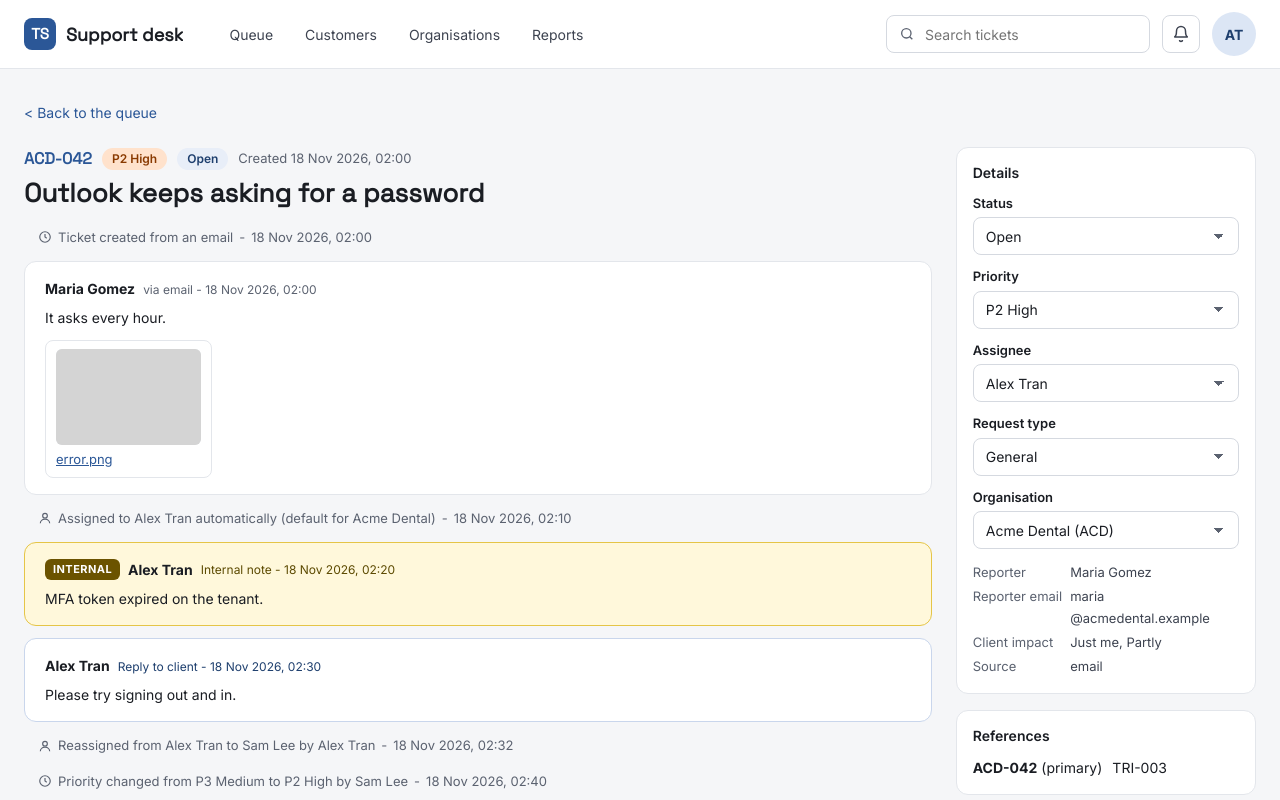
Scenario: Ticket actions › a refused status change pops up the permission message
Check: the heading "Outlook keeps asking for a password" is shown, box left=24, top=176, right=484, bottom=210
Select "Resolved" in the dropdown labelled "Status" at (1106, 236), box left=973, top=217, right=1239, bottom=255
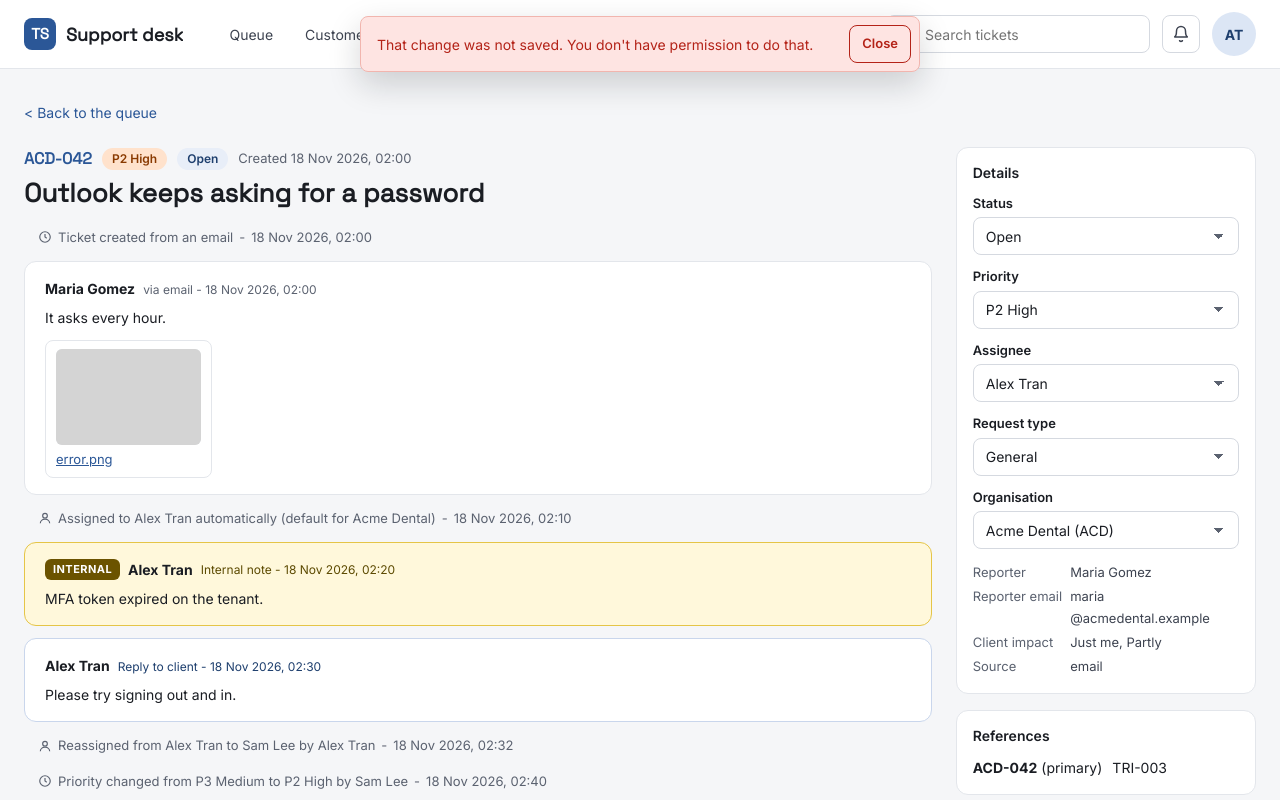
Check: the text "That change was not saved. You don't have permission to do that." is shown, box left=377, top=34, right=837, bottom=54
